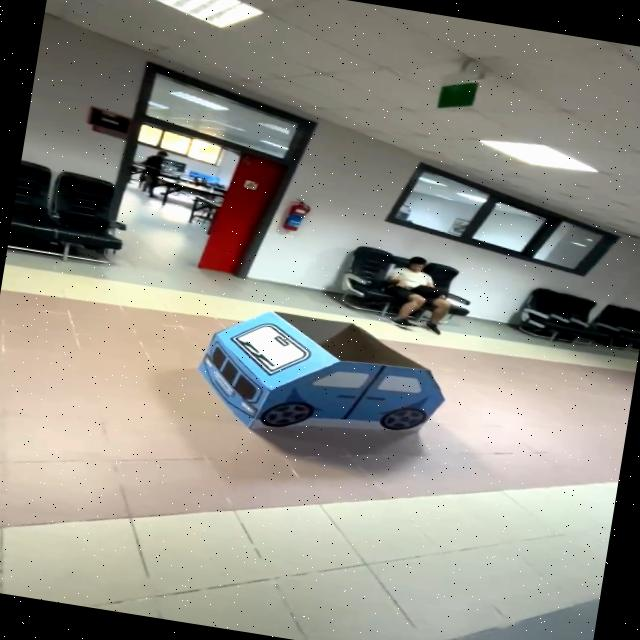blue_car: (177, 291, 471, 476)
